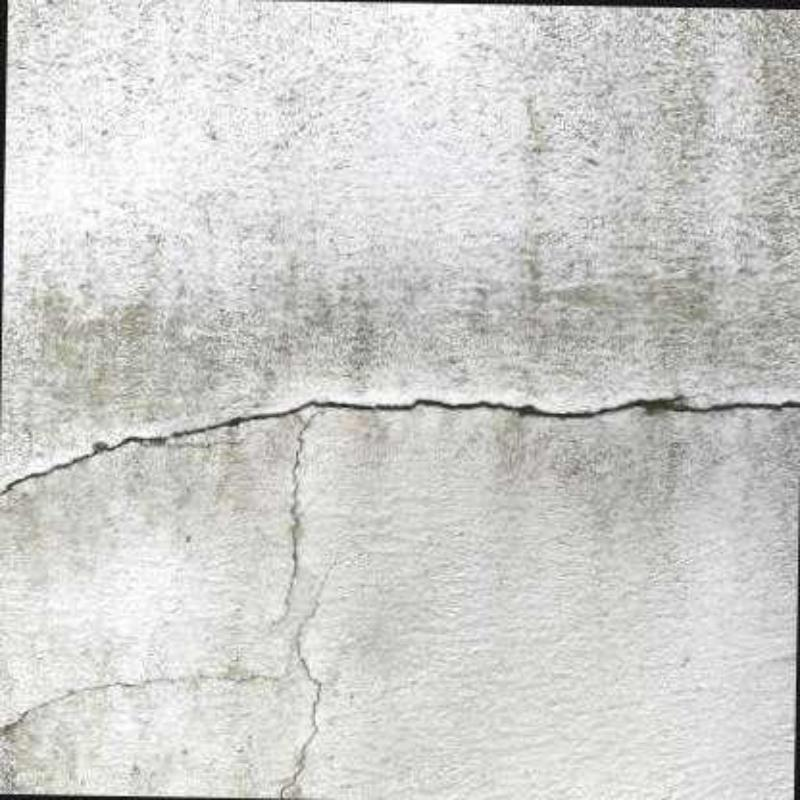crack: (0, 390, 798, 497), (0, 673, 277, 731), (275, 554, 338, 798), (273, 408, 329, 627)
